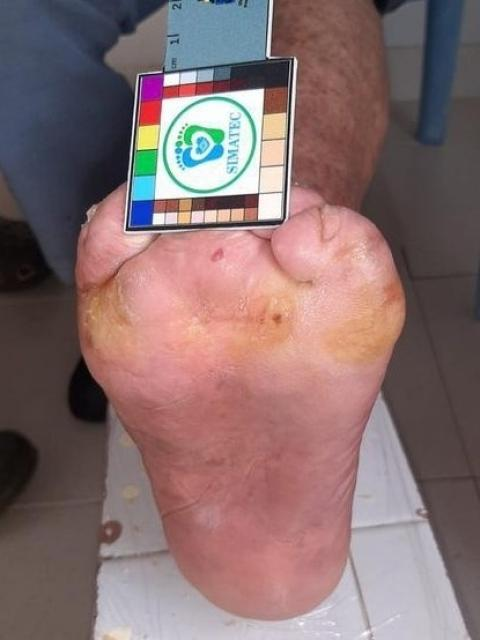wound: (264, 299, 288, 336), (211, 247, 225, 262)
